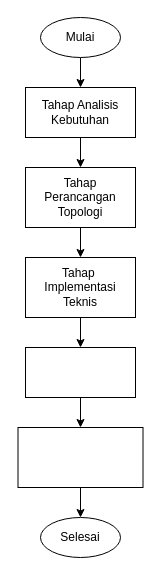
The diagram is 160 pixels wide and 575 high, and some of its shapes have lost their labels. Here are the shapes that lost their labels. From the top down, the box of each, then its label:
(24, 346, 136, 398): Tahap Pengujian Sistem
(17, 426, 143, 488): Tahap Evaluasi dan Analisis Data
